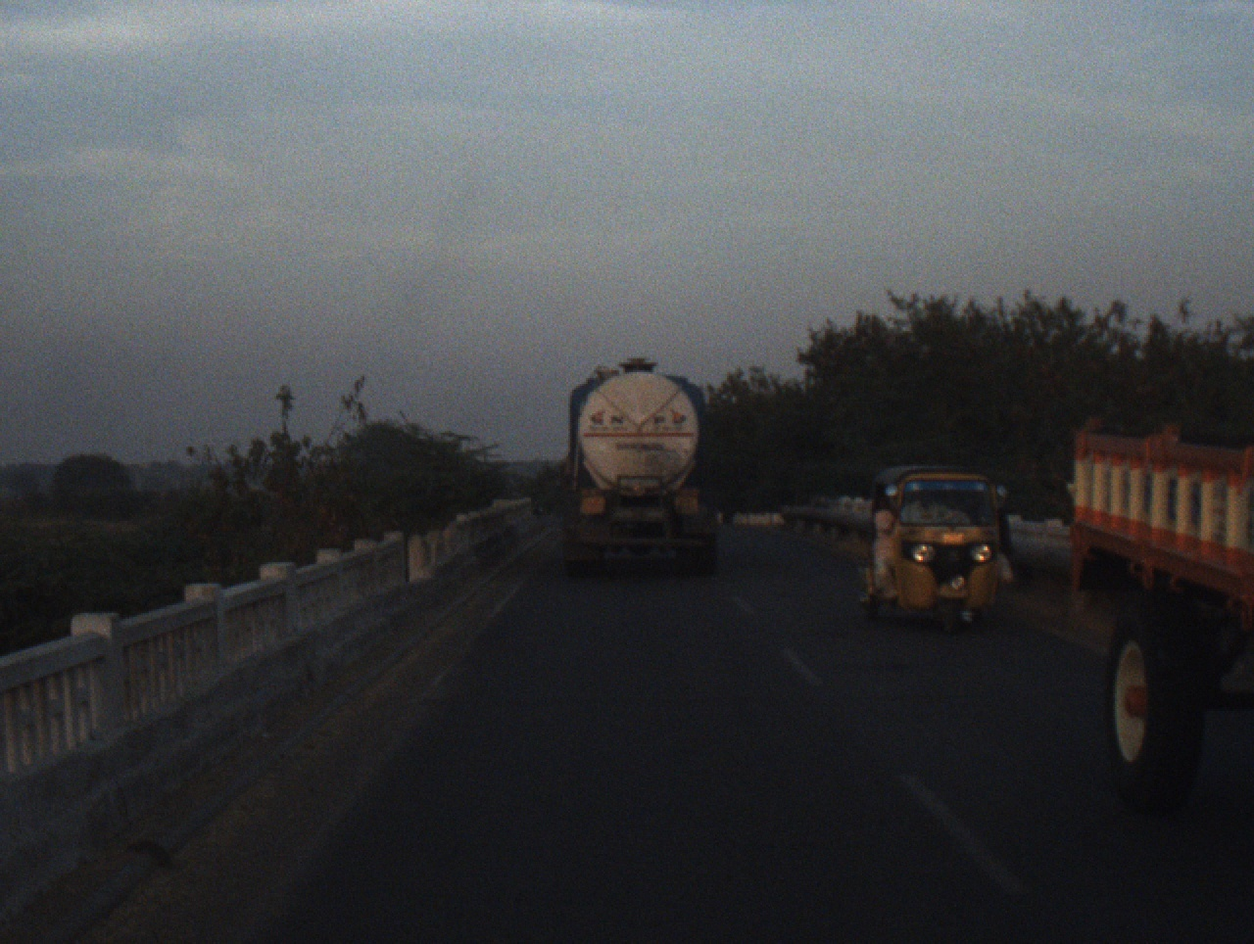autorickshaw: (855, 454, 1011, 635)
truck: (548, 354, 728, 589)
vehicle fallback: (1066, 414, 1254, 805)
